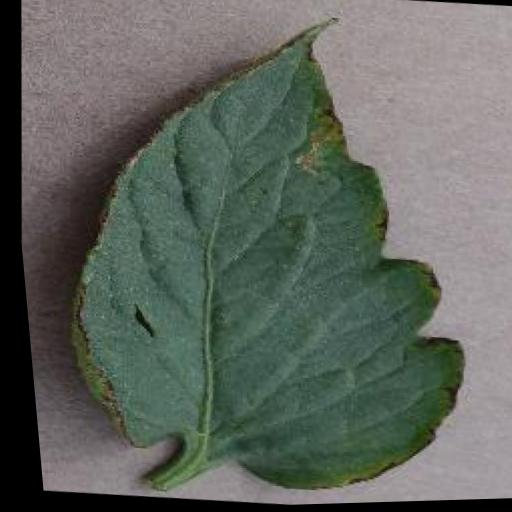Bacterial Spot: (16, 0, 501, 512)
